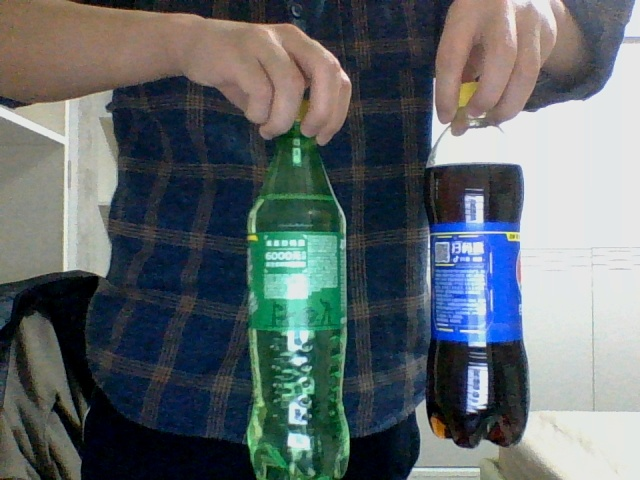Cola: (423, 80, 533, 446)
Sprite: (246, 100, 350, 479)
